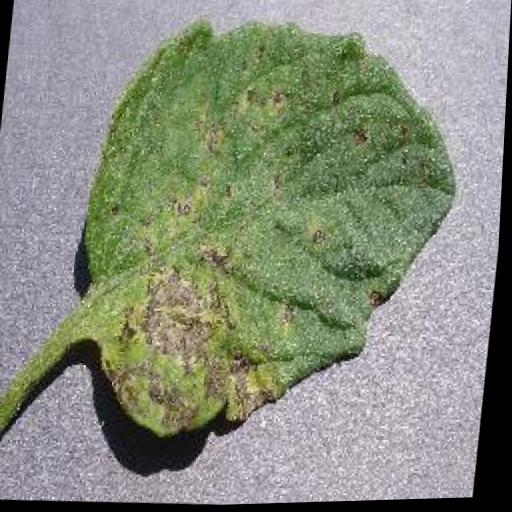Septoria: (66, 9, 477, 455)
